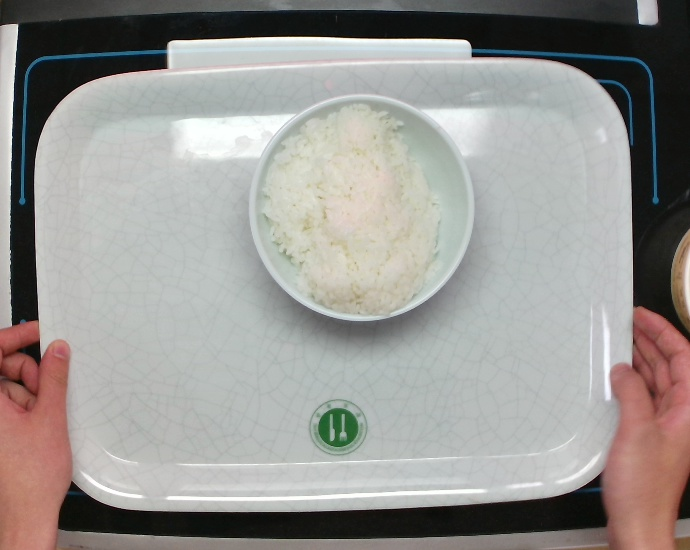JYsf-Fan_Wan: (246, 92, 477, 323)
